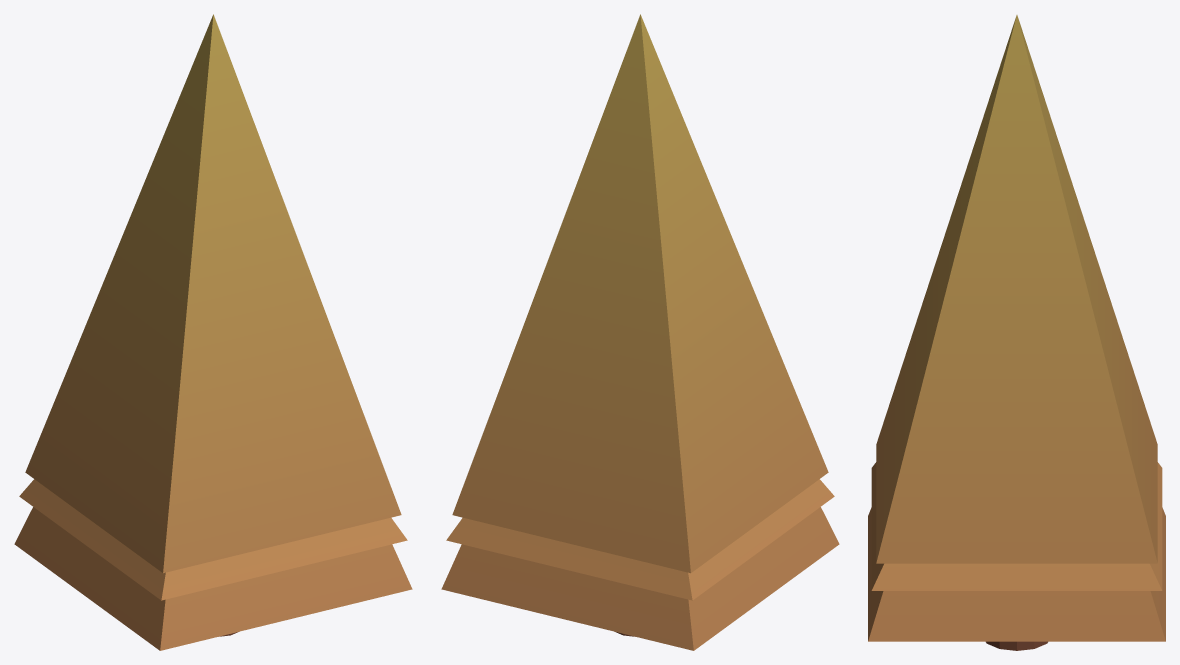
Rendered from Tree_34_gradient_yellow_vc.fbx.
3 views of the same model, side by side, from view 1: azimuth 30°, elevation 25°; view 2: azimuth 150°, elevation 25°; view 3: azimuth 270°, elevation 25° (orthographic). The views are drawn at different scales.
Parts seen in each view (by area): view 1: Tree_34_gradient_yellow_vc; view 2: Tree_34_gradient_yellow_vc; view 3: Tree_34_gradient_yellow_vc.
Part boxes in pixels (bbox=[...]): Tree_34_gradient_yellow_vc: bbox=[14, 14, 412, 650]; Tree_34_gradient_yellow_vc: bbox=[441, 14, 839, 650]; Tree_34_gradient_yellow_vc: bbox=[868, 15, 1165, 650].
Bounding box in the file's own units: 83.78 × 193 × 83.78.
